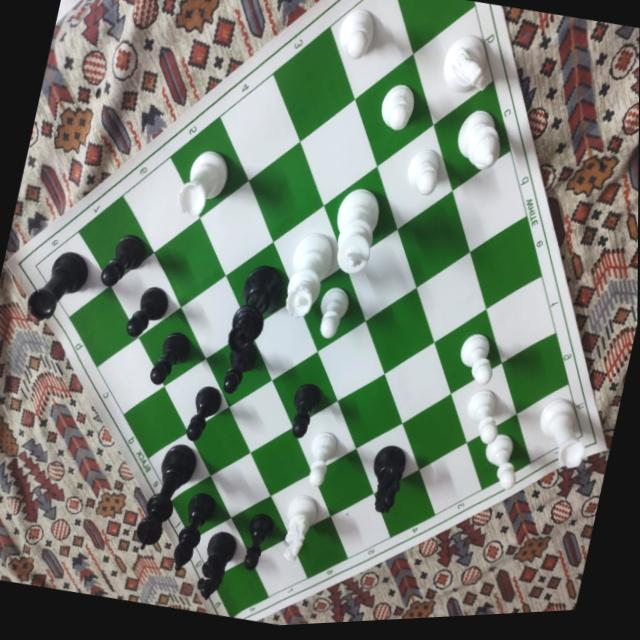board: (7, 0, 607, 620)
square: (273, 27, 355, 141), (413, 6, 492, 124), (355, 53, 433, 166), (219, 74, 300, 180), (433, 80, 510, 190), (330, 0, 413, 99), (300, 99, 376, 205), (170, 117, 249, 217), (376, 125, 452, 228), (248, 141, 323, 242), (452, 150, 526, 251), (122, 157, 200, 252), (323, 166, 397, 265), (397, 191, 470, 287), (200, 180, 273, 276), (78, 195, 154, 285), (469, 216, 542, 308), (273, 206, 346, 297), (345, 229, 416, 320), (154, 217, 225, 307), (416, 251, 486, 342), (36, 232, 110, 317), (294, 265, 365, 352), (226, 242, 295, 329), (366, 286, 434, 374), (111, 252, 181, 337), (486, 276, 555, 362), (69, 284, 139, 367), (181, 275, 250, 358), (434, 309, 501, 394), (250, 298, 317, 380), (138, 307, 206, 386), (383, 342, 450, 422), (317, 320, 384, 400), (502, 333, 568, 414), (516, 383, 582, 463), (97, 337, 164, 415), (450, 363, 516, 442), (206, 330, 272, 407), (337, 373, 402, 449), (272, 351, 337, 427), (402, 393, 466, 469), (466, 414, 530, 489), (164, 359, 229, 432), (291, 401, 356, 473), (229, 380, 293, 452), (124, 386, 187, 459), (418, 442, 481, 514), (356, 422, 419, 493), (187, 406, 250, 476), (148, 432, 210, 501), (250, 427, 312, 495), (398, 0, 475, 54), (373, 470, 435, 537), (313, 449, 373, 516), (170, 476, 231, 540), (270, 472, 330, 537), (330, 493, 390, 558), (210, 453, 270, 517), (231, 495, 290, 558), (191, 517, 251, 578), (289, 516, 347, 578), (211, 557, 268, 617), (250, 537, 307, 597)
